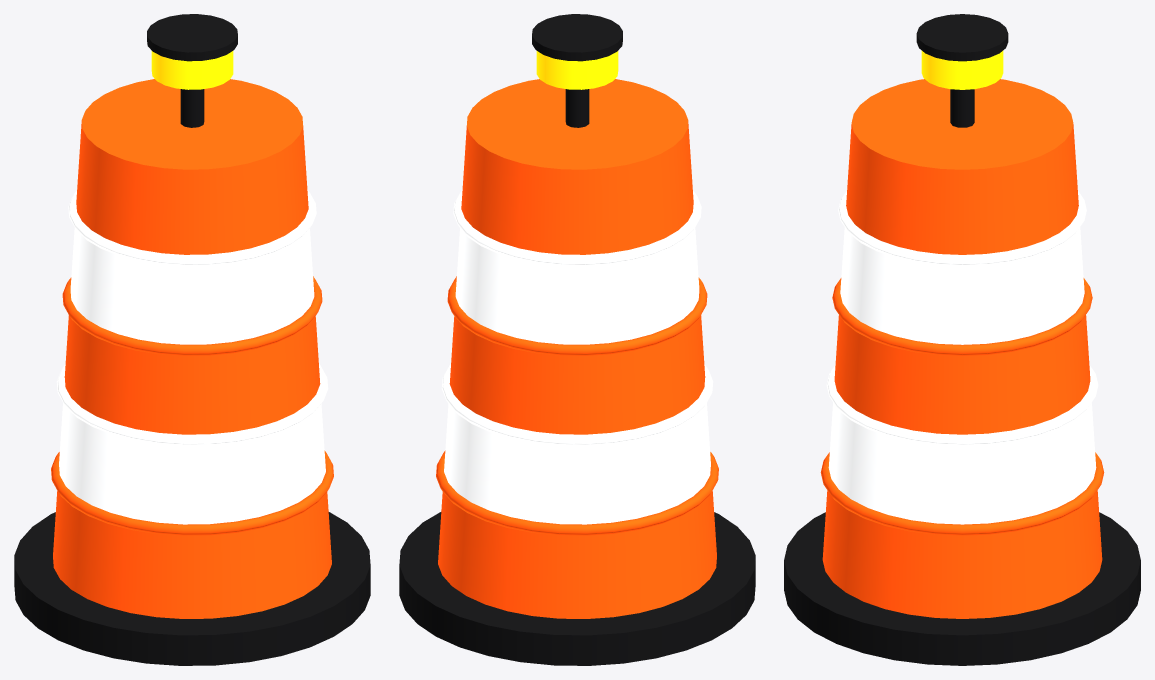
File: drum.glb
3 views of the same model, side by side, from view 1: azimuth 30°, elevation 25°; view 2: azimuth 150°, elevation 25°; view 3: azimuth 270°, elevation 25° (orthographic).
Parts seen in each view (by area): view 1: drum_PropOrange, drum_Reflective, drum_PropRubber, drum_Blinker; view 2: drum_PropOrange, drum_Reflective, drum_PropRubber, drum_Blinker; view 3: drum_PropOrange, drum_Reflective, drum_PropRubber, drum_Blinker.
Boxes of the visible parts, left/top/right/bottom form: drum_PropOrange: left=51, top=79, right=333, bottom=618; drum_Reflective: left=56, top=189, right=328, bottom=524; drum_PropRubber: left=14, top=14, right=370, bottom=665; drum_Blinker: left=151, top=51, right=233, bottom=89; drum_PropOrange: left=436, top=79, right=718, bottom=618; drum_Reflective: left=441, top=189, right=713, bottom=524; drum_PropRubber: left=399, top=14, right=755, bottom=665; drum_Blinker: left=536, top=51, right=618, bottom=89; drum_PropOrange: left=820, top=79, right=1104, bottom=618; drum_Reflective: left=826, top=191, right=1098, bottom=524; drum_PropRubber: left=784, top=14, right=1140, bottom=665; drum_Blinker: left=921, top=50, right=1003, bottom=89.
Bounding box in the file's own units: 0.74 × 1.28 × 0.74.
